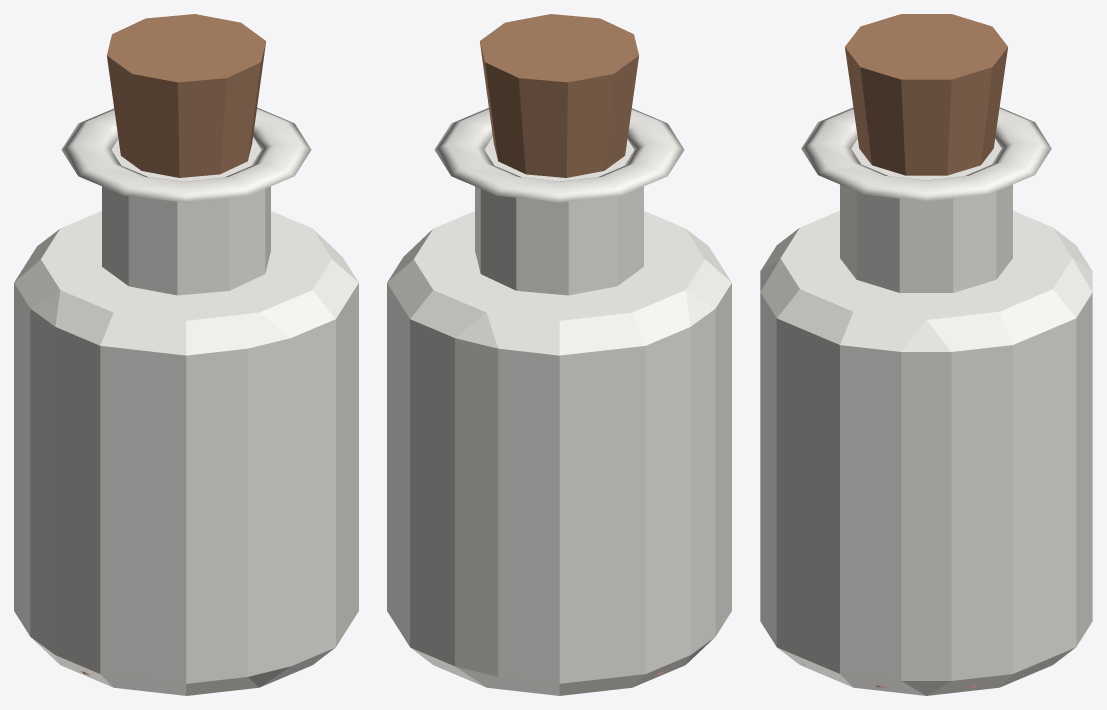
Rendered from syrup-glass-vial.glb.
The picture shows the model from 3 angles, left to right: view 1: azimuth 30°, elevation 25°; view 2: azimuth 150°, elevation 25°; view 3: azimuth 270°, elevation 25°; orthographic projection.
Parts seen in each view (by area): view 1: vial_GlassBody, vial_Cork, vial_GlassNeck, vial_GlassRim; view 2: vial_GlassBody, vial_Cork, vial_GlassNeck, vial_GlassRim; view 3: vial_GlassBody, vial_Cork, vial_GlassNeck, vial_GlassRim.
Boxes of the visible parts, x1,y1,x2,y2 form: vial_GlassBody: (14,211,358,695); vial_Cork: (107,14,265,177); vial_GlassNeck: (102,137,270,295); vial_GlassRim: (61,107,311,202); vial_GlassBody: (387,211,731,695); vial_Cork: (480,14,638,177); vial_GlassNeck: (475,137,643,295); vial_GlassRim: (434,107,684,202); vial_GlassBody: (760,210,1092,695); vial_Cork: (845,14,1007,175); vial_GlassNeck: (840,139,1012,292); vial_GlassRim: (801,107,1051,201).
Size of what is drawn, in the model's own units: 0.1922 by 0.375 by 0.1922.
